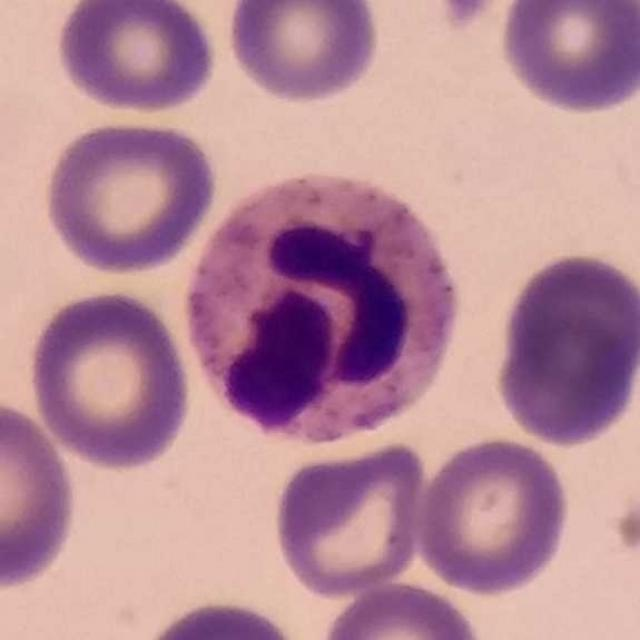Neutrophil: (170, 163, 476, 465)
Platelets: (438, 0, 496, 30)
RBC: (24, 285, 197, 473), (489, 245, 640, 451), (40, 116, 223, 276), (268, 436, 432, 600), (412, 433, 574, 598), (50, 0, 222, 117), (222, 0, 385, 107), (494, 0, 640, 118), (0, 394, 82, 593), (315, 577, 488, 640), (132, 593, 310, 640)
